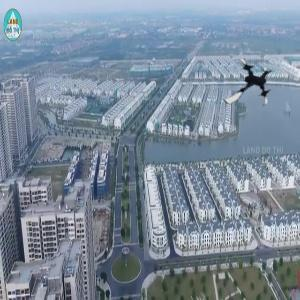drone: (219, 56, 278, 115)
